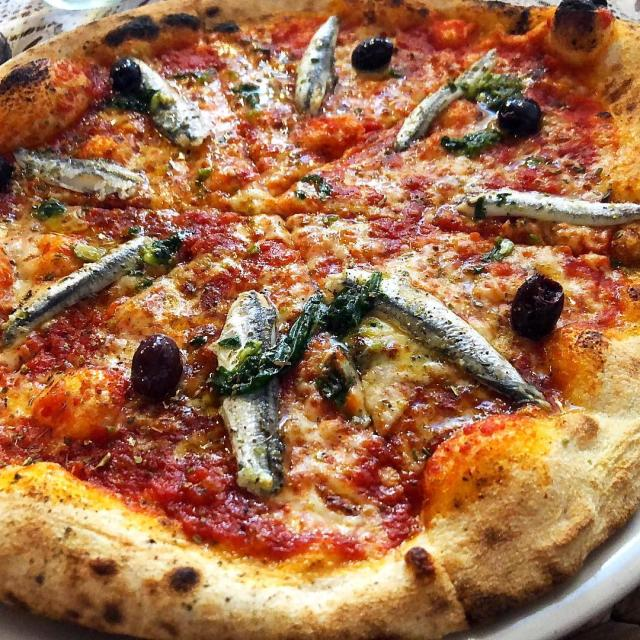black_olives: (129, 332, 186, 405), (507, 269, 564, 341), (494, 97, 546, 143), (351, 36, 399, 80)
pizza: (0, 0, 640, 640)
